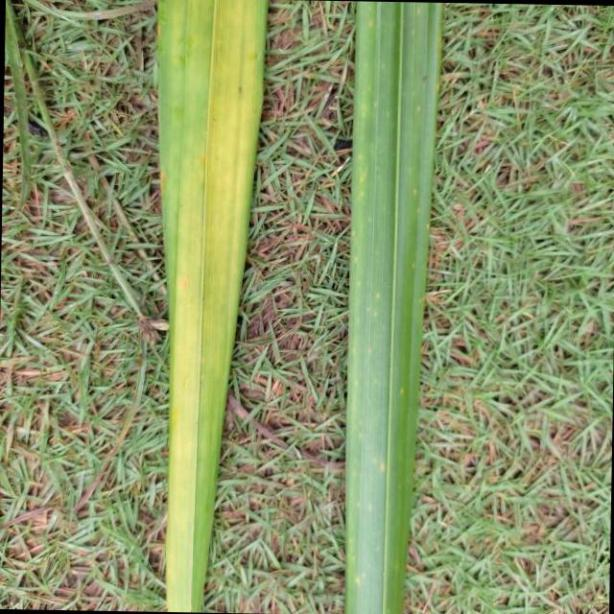nitrogen: (150, 0, 270, 614), (344, 0, 441, 614)
